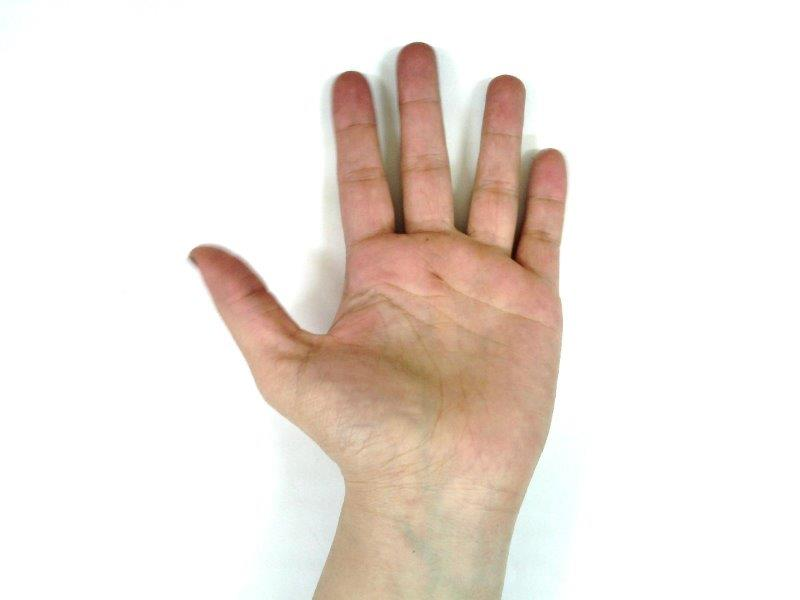hand: (188, 40, 568, 490)
